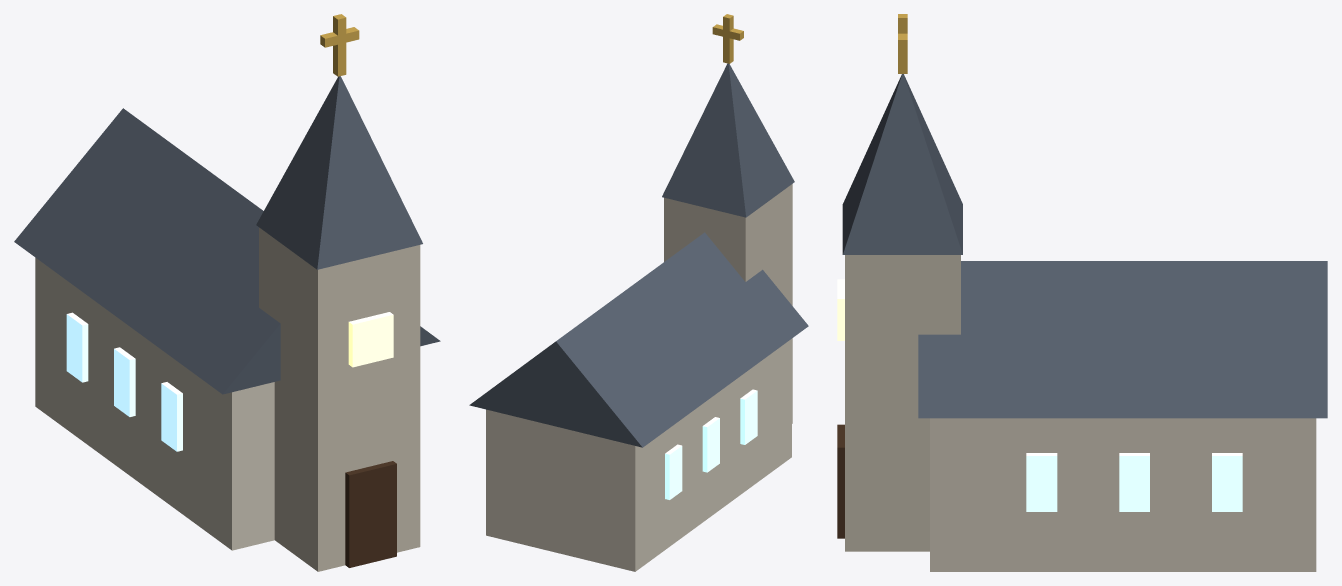
File: chapel.glb
The picture shows the model from 3 angles, left to right: view 1: azimuth 30°, elevation 25°; view 2: azimuth 150°, elevation 25°; view 3: azimuth 270°, elevation 25°; orthographic projection. The views are drawn at different scales.
Visible parts, largest first — view 1: chapel; view 2: chapel; view 3: chapel.
Boxes of the visible parts, bbox=[...] form: chapel: bbox=[14, 14, 440, 571]; chapel: bbox=[469, 14, 808, 571]; chapel: bbox=[837, 14, 1327, 571].
Bounding box in the file's own units: 6.4 × 14.6 × 12.7.
